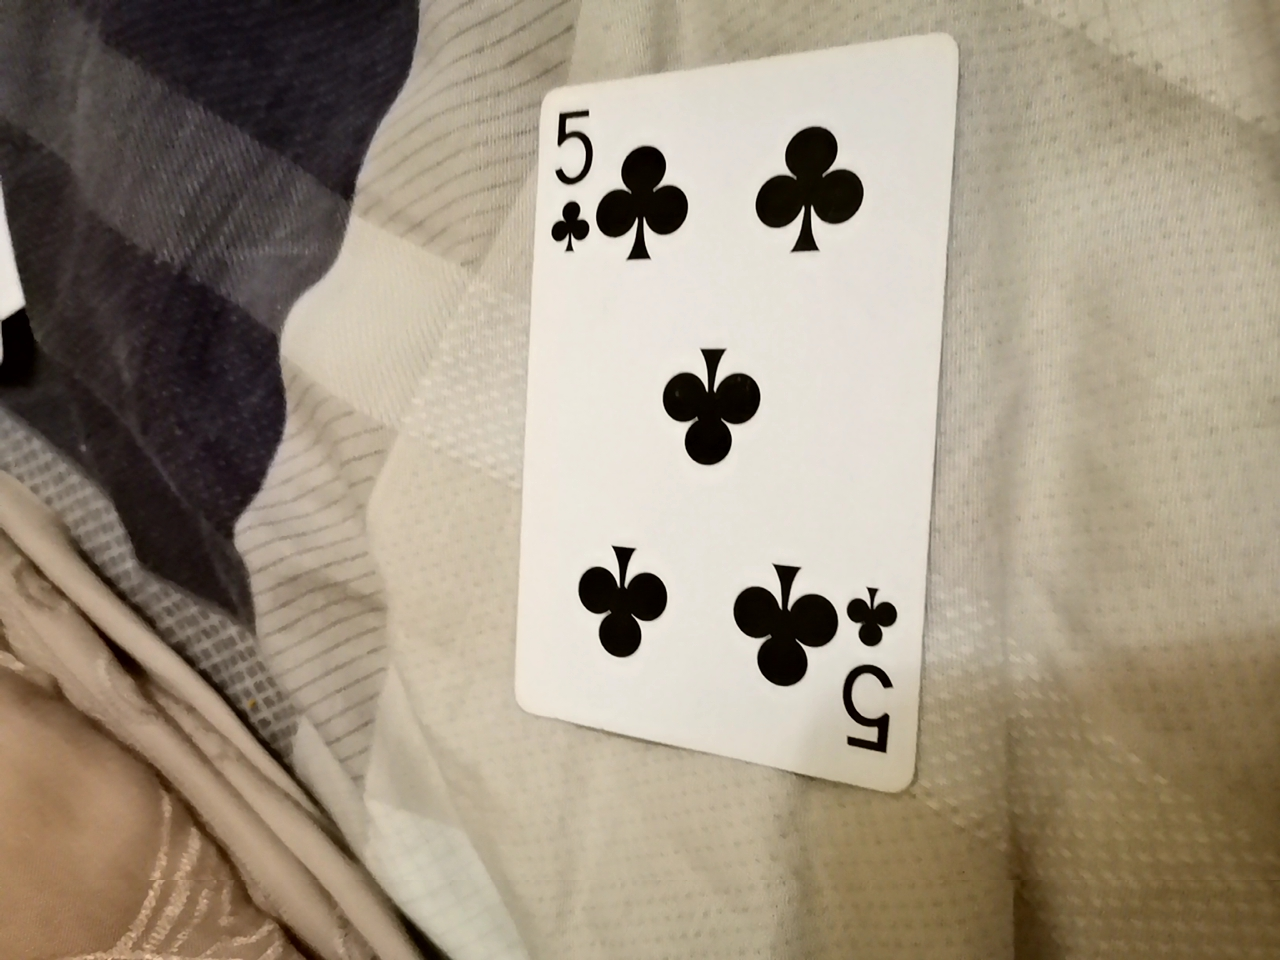mh 5: (480, 29, 957, 792)
